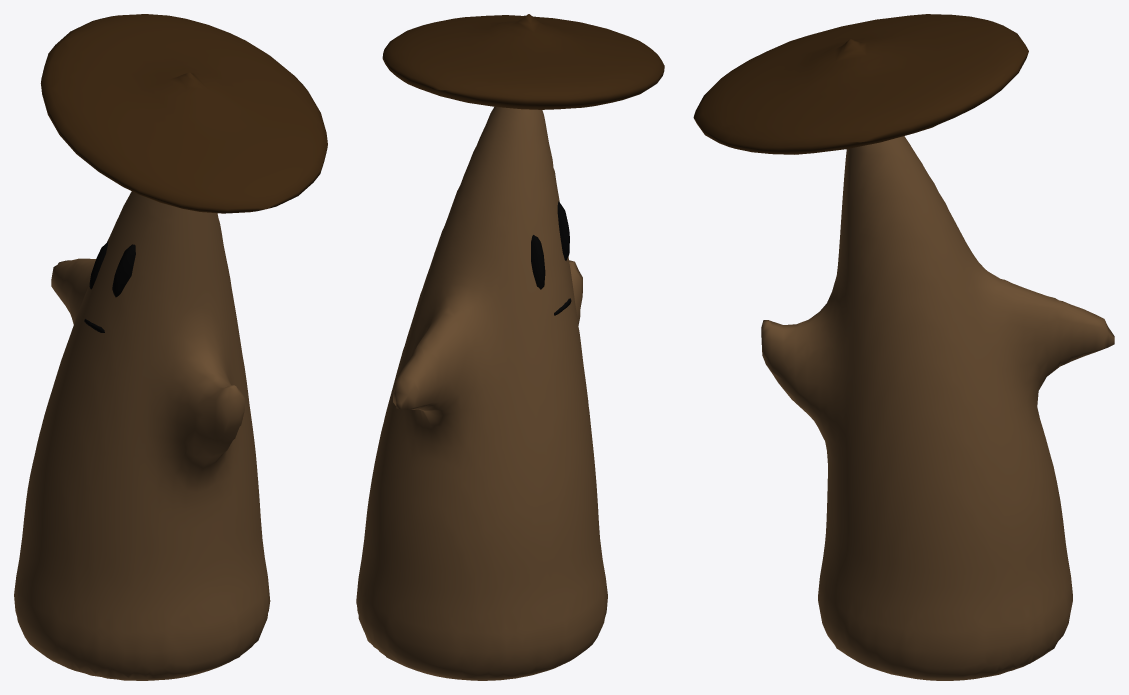
Rendered from UglyShroom.fbx.
3 renders of one model, left to right at view 1: azimuth 30°, elevation 25°; view 2: azimuth 150°, elevation 25°; view 3: azimuth 270°, elevation 25°, orthographic.
Visible parts, largest first — view 1: Cylinder, Sphere, Sphere.002; view 2: Cylinder, Sphere, Sphere.001, Sphere.002; view 3: Cylinder, Sphere.
Boxes of the visible parts, x1=… form: Cylinder: x1=14, y1=191, x2=270, y2=680; Sphere: x1=40, y1=14, x2=327, y2=213; Sphere.002: x1=112, y1=244, x2=135, y2=297; Cylinder: x1=356, y1=107, x2=607, y2=680; Sphere: x1=382, y1=14, x2=664, y2=109; Sphere.001: x1=531, y1=235, x2=545, y2=289; Sphere.002: x1=557, y1=201, x2=569, y2=260; Cylinder: x1=761, y1=136, x2=1114, y2=680; Sphere: x1=693, y1=14, x2=1028, y2=154.
Bounding box in the file's own units: 226 × 565 × 351.
